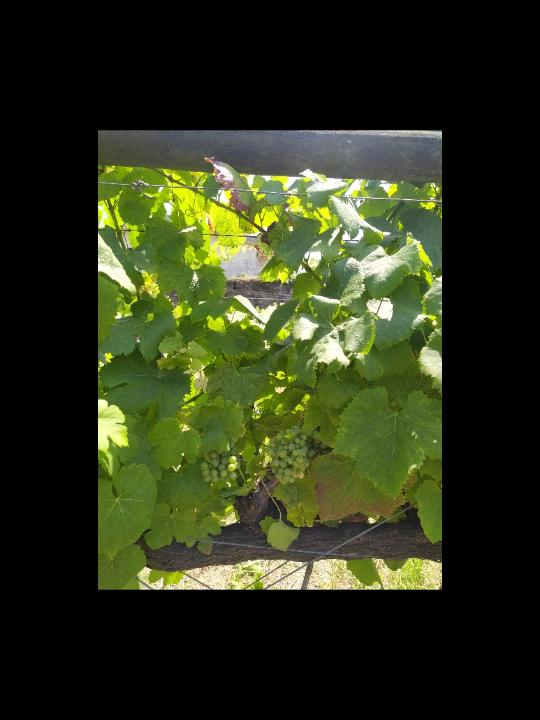grape: (263, 423, 329, 487), (198, 447, 243, 487)
